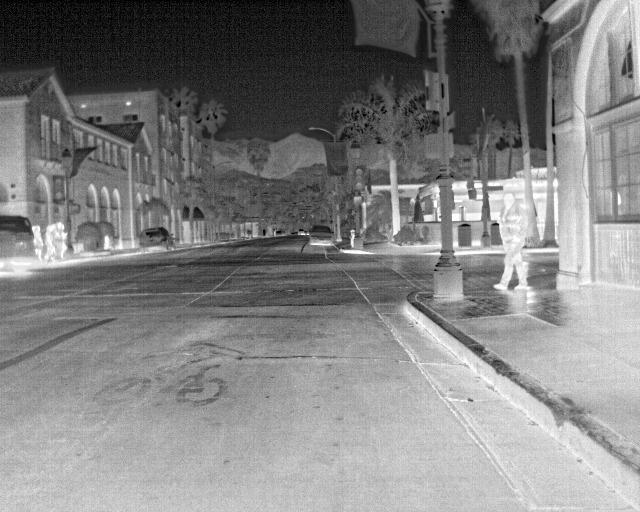bicycle: (0, 213, 38, 263), (136, 226, 175, 253), (306, 224, 336, 246)
empty: (492, 191, 531, 290), (58, 220, 71, 259), (30, 223, 44, 259), (46, 222, 59, 258)
